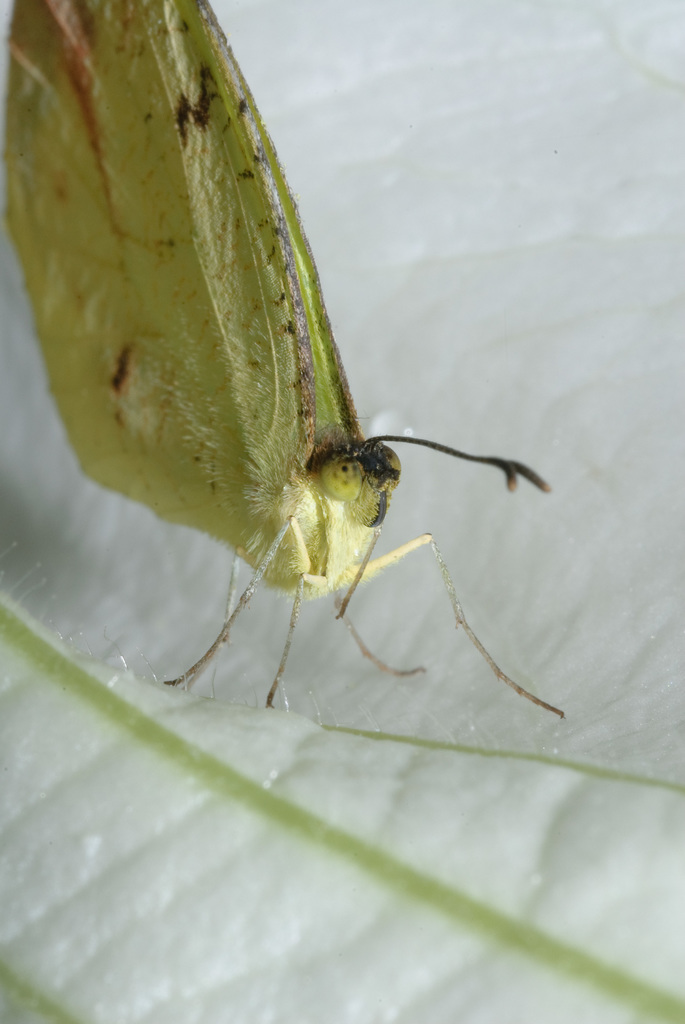Butterfly: (1, 1, 585, 729)
